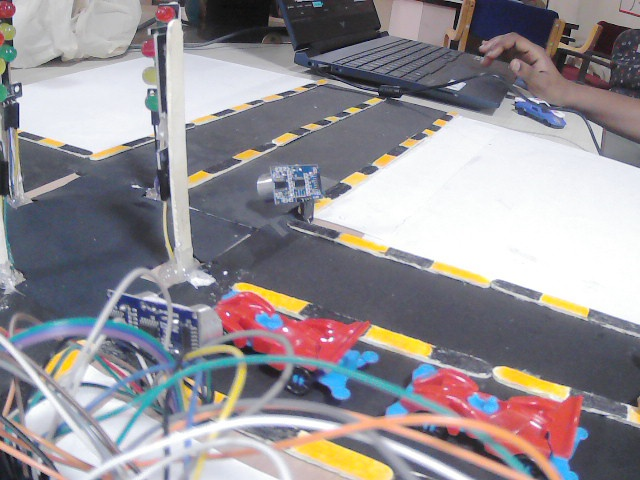car: (402, 358, 598, 480), (205, 281, 352, 403)
traffic_light: (133, 31, 166, 135), (0, 2, 31, 68), (142, 5, 186, 38), (0, 28, 12, 117)
uno_breadboard: (92, 287, 215, 377), (257, 160, 344, 203)
